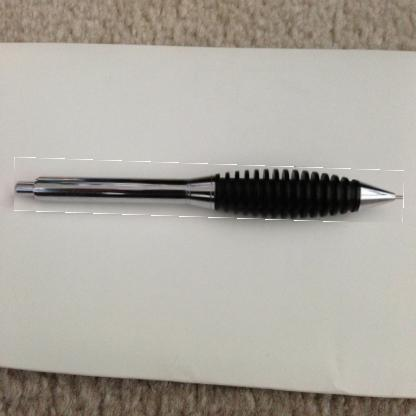Pen: (13, 161, 403, 220)
